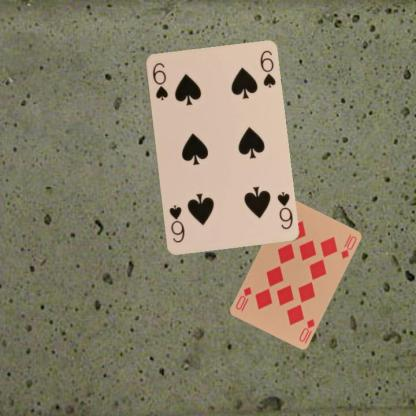10d: (296, 316, 316, 343)
6s: (150, 60, 169, 102), (275, 189, 294, 230)
